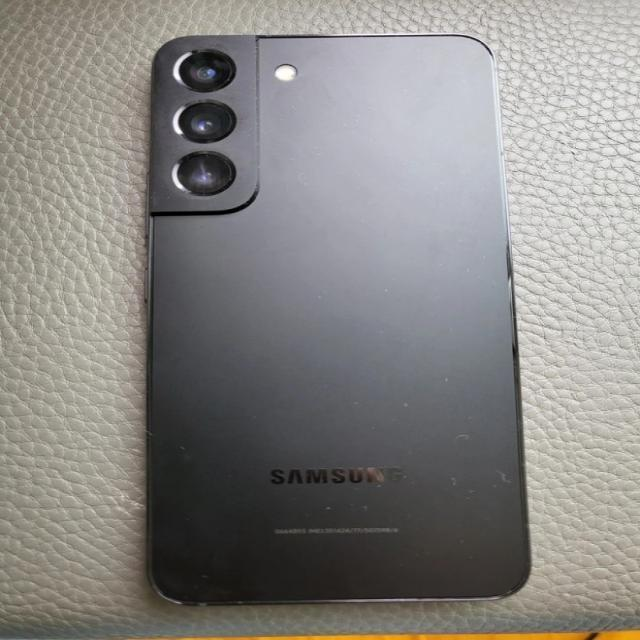phone: (145, 31, 532, 606)
